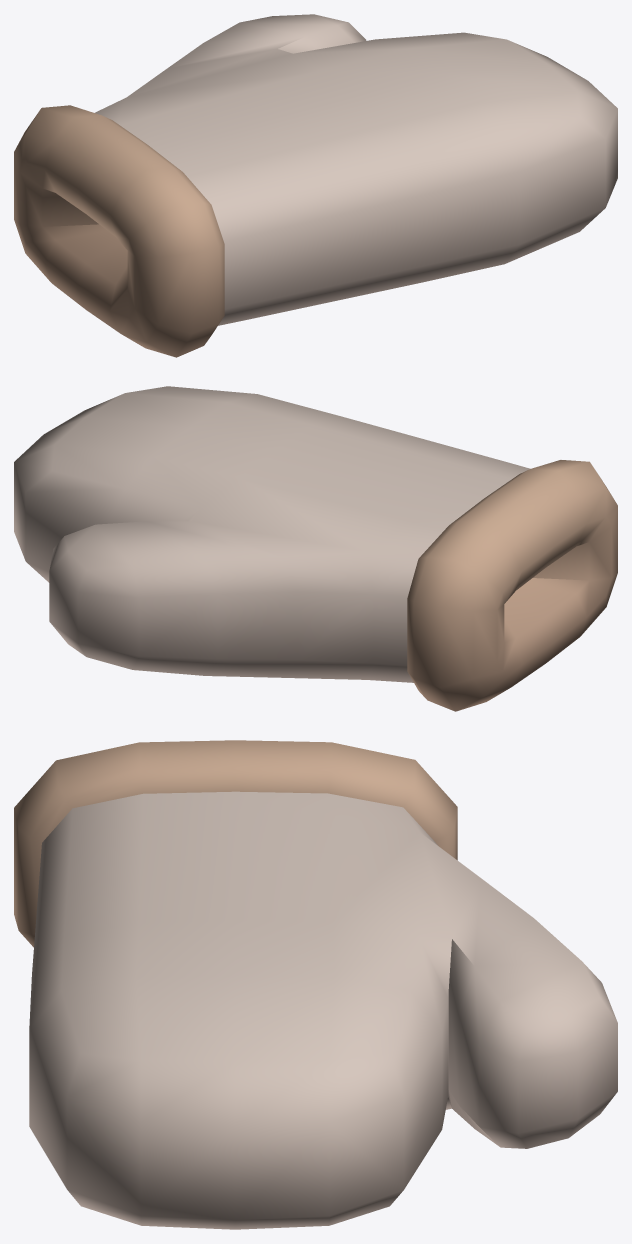
Rendered from oven-mitt.glb.
3 renders of one model, top to bottom at view 1: azimuth 30°, elevation 25°; view 2: azimuth 150°, elevation 25°; view 3: azimuth 270°, elevation 25°, orthographic. The views are drawn at different scales.
Visible parts, largest first — view 1: oven-mitt; view 2: oven-mitt; view 3: oven-mitt.
Part boxes in pixels (left/top/right/bottom): oven-mitt: left=14, top=14, right=617, bottom=357; oven-mitt: left=14, top=386, right=617, bottom=711; oven-mitt: left=14, top=740, right=617, bottom=1229.
Size of the model in its own units: 0.3184 by 0.108 by 0.2443.
